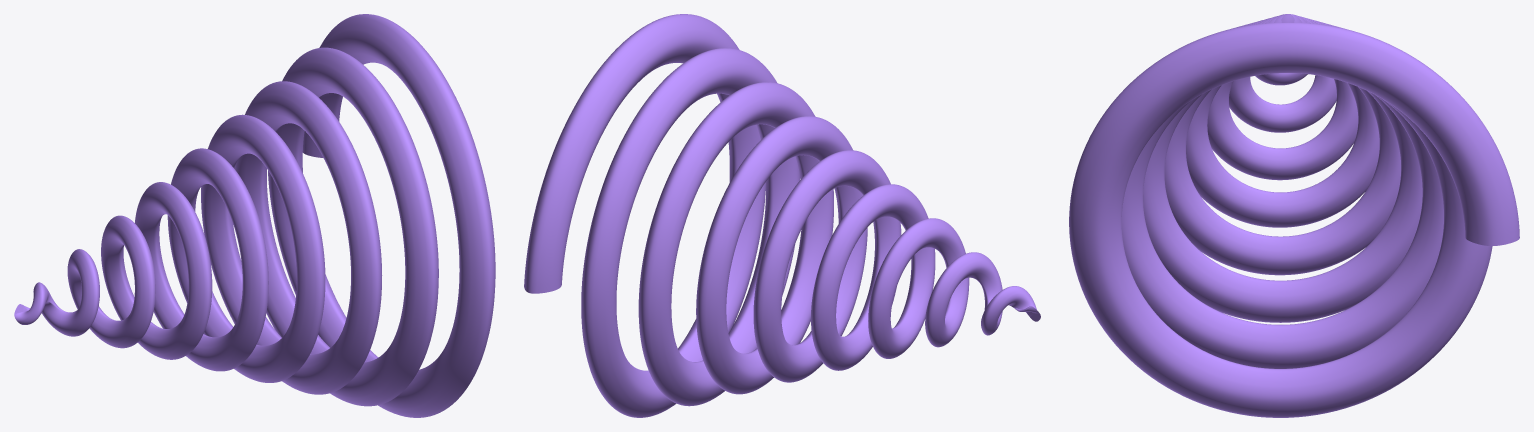
The model's file is spiral_snowflakes.glb.
3 renders of one model, left to right at view 1: azimuth 30°, elevation 25°; view 2: azimuth 150°, elevation 25°; view 3: azimuth 270°, elevation 25°, orthographic. The views are drawn at different scales.
Parts seen in each view (by area): view 1: Object_2; view 2: Object_2; view 3: Object_2.
Part boxes in pixels (bbox=[...]): Object_2: bbox=[14, 14, 495, 417]; Object_2: bbox=[524, 14, 1040, 417]; Object_2: bbox=[1069, 14, 1519, 417].
Size of the model in its own units: 63.24 by 53.69 by 53.95.
